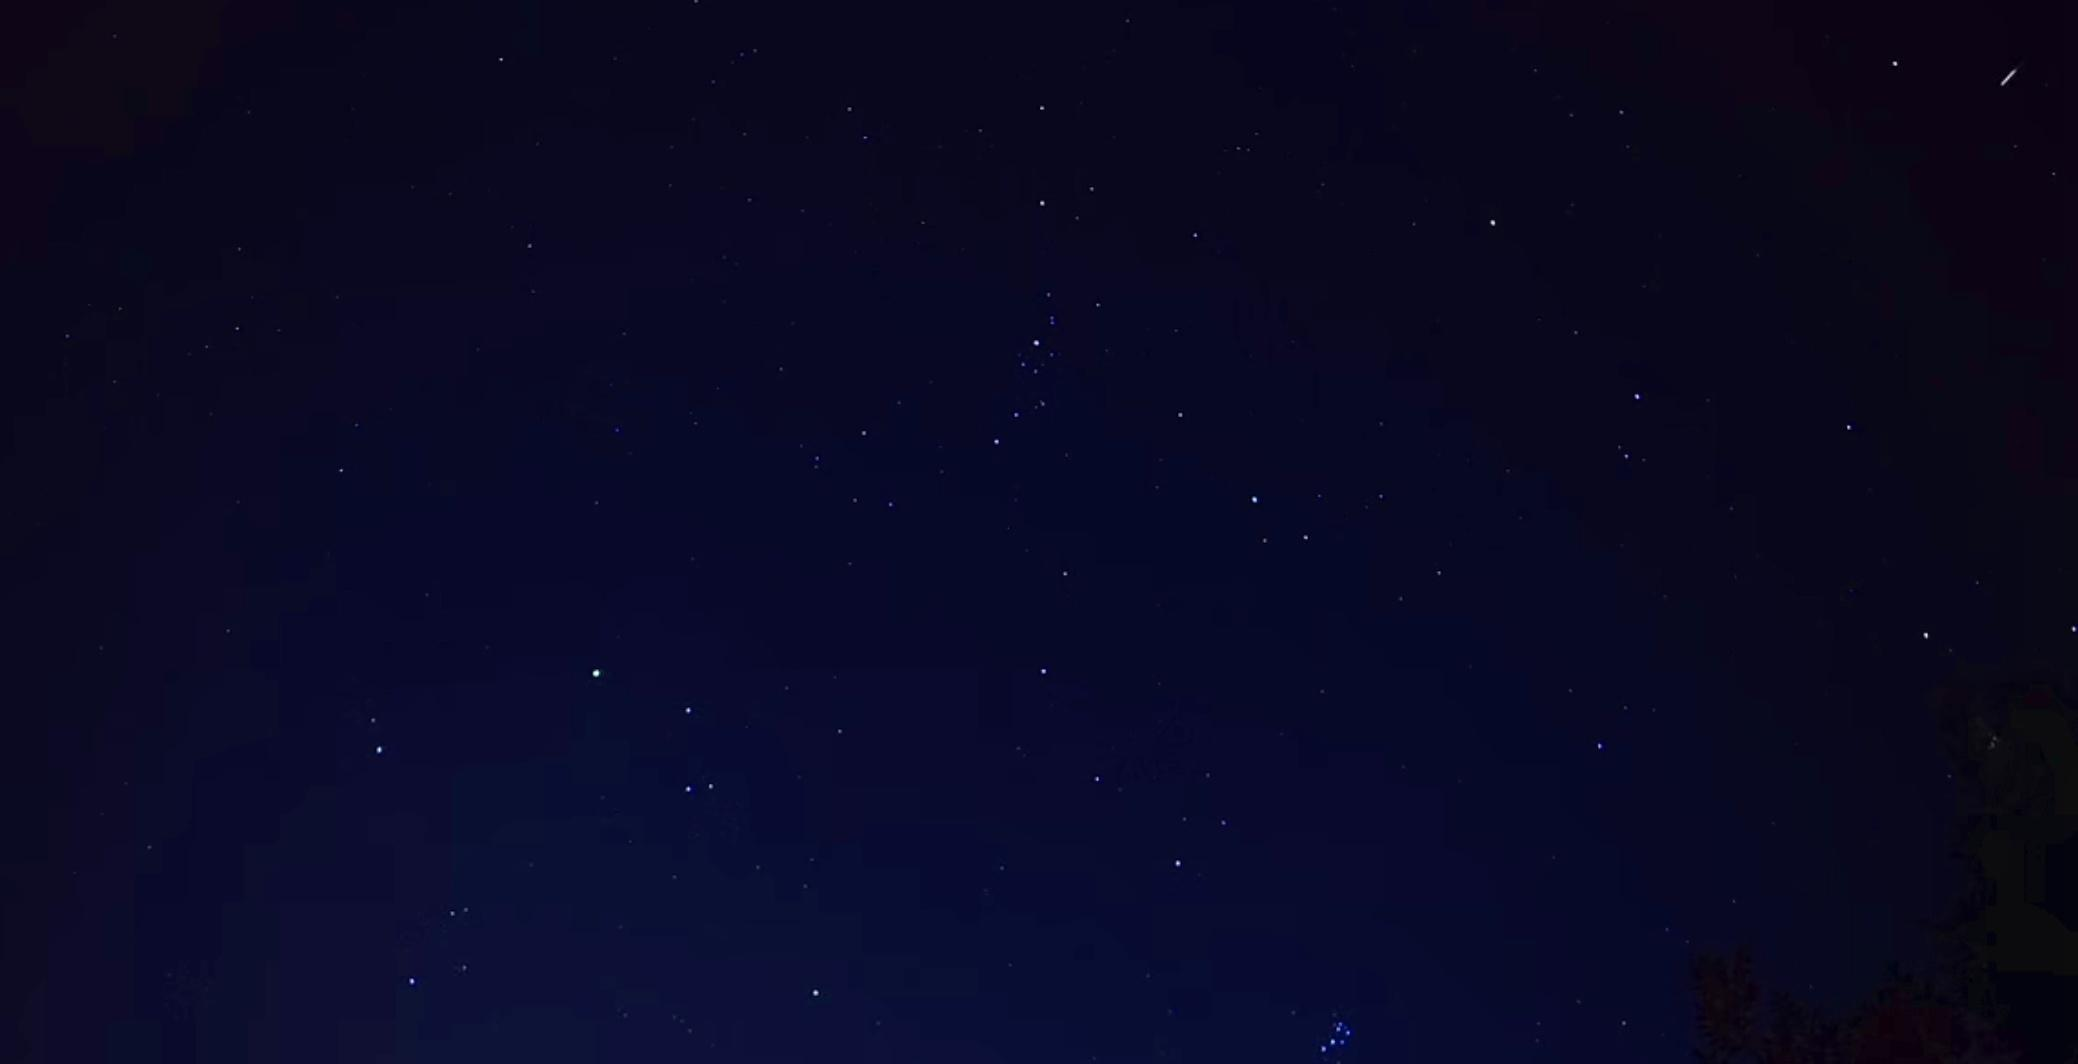meteorite: (1950, 54, 2064, 96)
